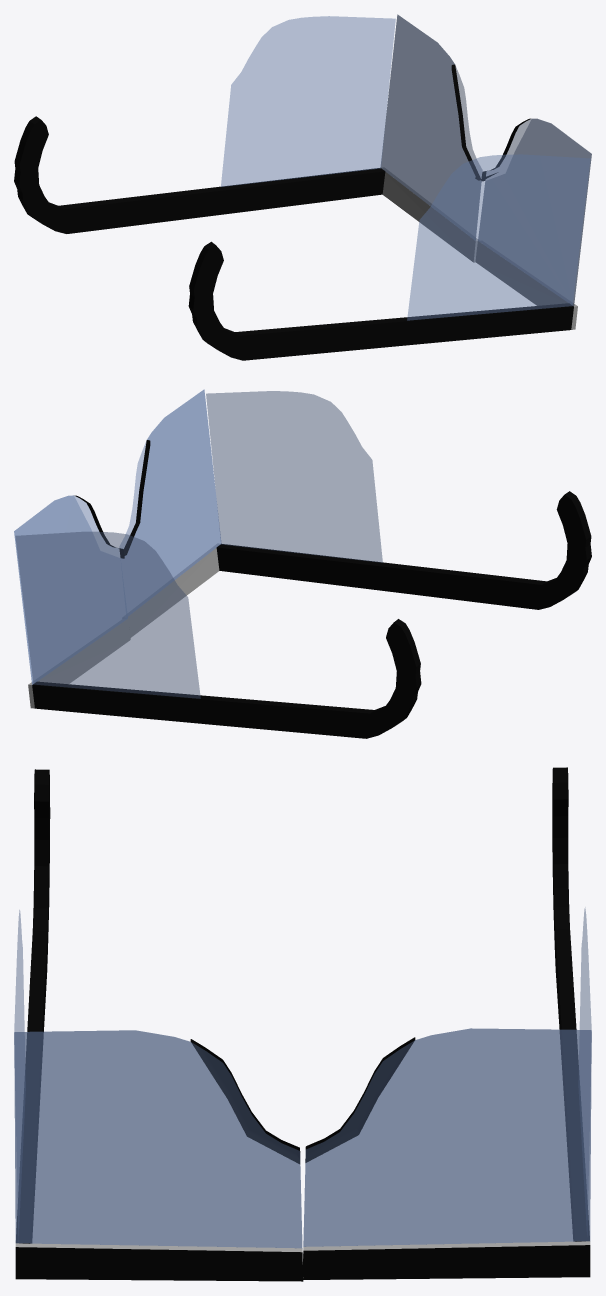
File: good safety googles.fbx
The picture shows the model from 3 angles, top to bottom: view 1: azimuth 30°, elevation 25°; view 2: azimuth 150°, elevation 25°; view 3: azimuth 270°, elevation 25°; orthographic projection. The views are drawn at different scales.
Visible parts, largest first — view 1: polySurface21, polySurface22; view 2: polySurface21, polySurface22; view 3: polySurface21, polySurface22.
Part boxes in pixels (x1,y1,x2,y2): polySurface21: (14, 14, 591, 360); polySurface22: (221, 16, 590, 320); polySurface21: (14, 389, 591, 738); polySurface22: (15, 391, 382, 698); polySurface21: (14, 767, 591, 1281); polySurface22: (14, 907, 591, 1044).
Size of the model in its own units: 2.37 by 1.13 by 2.
